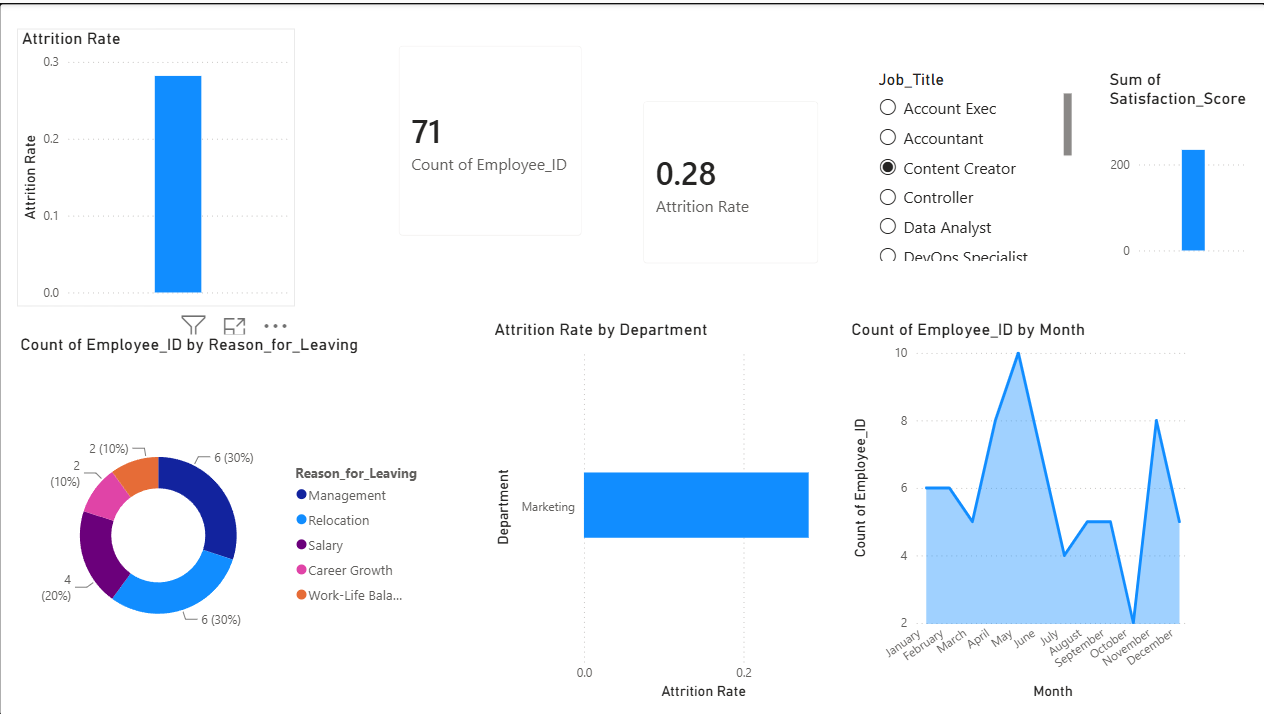

This screenshot's page, from the dashboard's own definition file:
{"tool":"powerbi","page":{"name":"Page 1","canvas":[1280,720],"ordinal":0},"visuals":[{"type":"clusteredColumnChart","fields":{"Y":["hr_analytics_data.Attrition Rate"]},"box":[17.8,25.9,280.1,280.1],"z":0},{"type":"cardVisual","fields":{"Data":["Count(hr_analytics_data.Employee_ID)"]},"box":[385.5,26.5,219.2,226.8],"z":1000},{"type":"cardVisual","fields":{"Data":["hr_analytics_data.Attrition Rate"]},"box":[633.1,81.3,211.7,198.4],"z":2000},{"type":"donutChart","fields":{"Category":["hr_analytics_data.Reason_for_Leaving"],"Y":["CountNonNull(hr_analytics_data.Employee_ID)"]},"box":[17,334.5,419.5,385.5],"z":3000},{"type":"clusteredBarChart","fields":{"Category":["hr_analytics_data.Department"],"Y":["hr_analytics_data.Attrition Rate"]},"box":[495.1,319.4,349.6,387.4],"z":4000},{"type":"areaChart","fields":{"Category":["hr_analytics_data.Hire_Date.Variation.Date Hierarchy.Month"],"Y":["CountNonNull(hr_analytics_data.Employee_ID)"]},"box":[855,319,350,387],"z":5000},{"type":"listSlicer","fields":{"Values":["hr_analytics_data.Job_Title"]},"box":[882.5,66.1,206,198.4],"z":6000},{"type":"clusteredColumnChart","fields":{"Y":["Sum(hr_analytics_data.Satisfaction_Score)"]},"box":[1116,66.6,149.9,196.8],"z":7000}]}

Visuals, with their boxes in screenshot pixels (x1, y1, x2, y2), scaled from the page's 1280x720 canvas onto the 1264x714 screenshot:
clusteredColumnChart - hr_analytics_data.Attrition Rate: [18, 26, 294, 303]
cardVisual - Count(hr_analytics_data.Employee_ID): [381, 26, 597, 251]
cardVisual - hr_analytics_data.Attrition Rate: [625, 81, 834, 277]
donutChart - hr_analytics_data.Reason_for_Leaving x CountNonNull(hr_analytics_data.Employee_ID): [17, 332, 431, 713]
clusteredBarChart - hr_analytics_data.Department x hr_analytics_data.Attrition Rate: [489, 317, 834, 701]
areaChart - hr_analytics_data.Hire_Date.Variation.Date Hierarchy.Month x CountNonNull(hr_analytics_data.Employee_ID): [844, 316, 1190, 700]
listSlicer - hr_analytics_data.Job_Title: [871, 66, 1075, 262]
clusteredColumnChart - Sum(hr_analytics_data.Satisfaction_Score): [1102, 66, 1250, 261]
